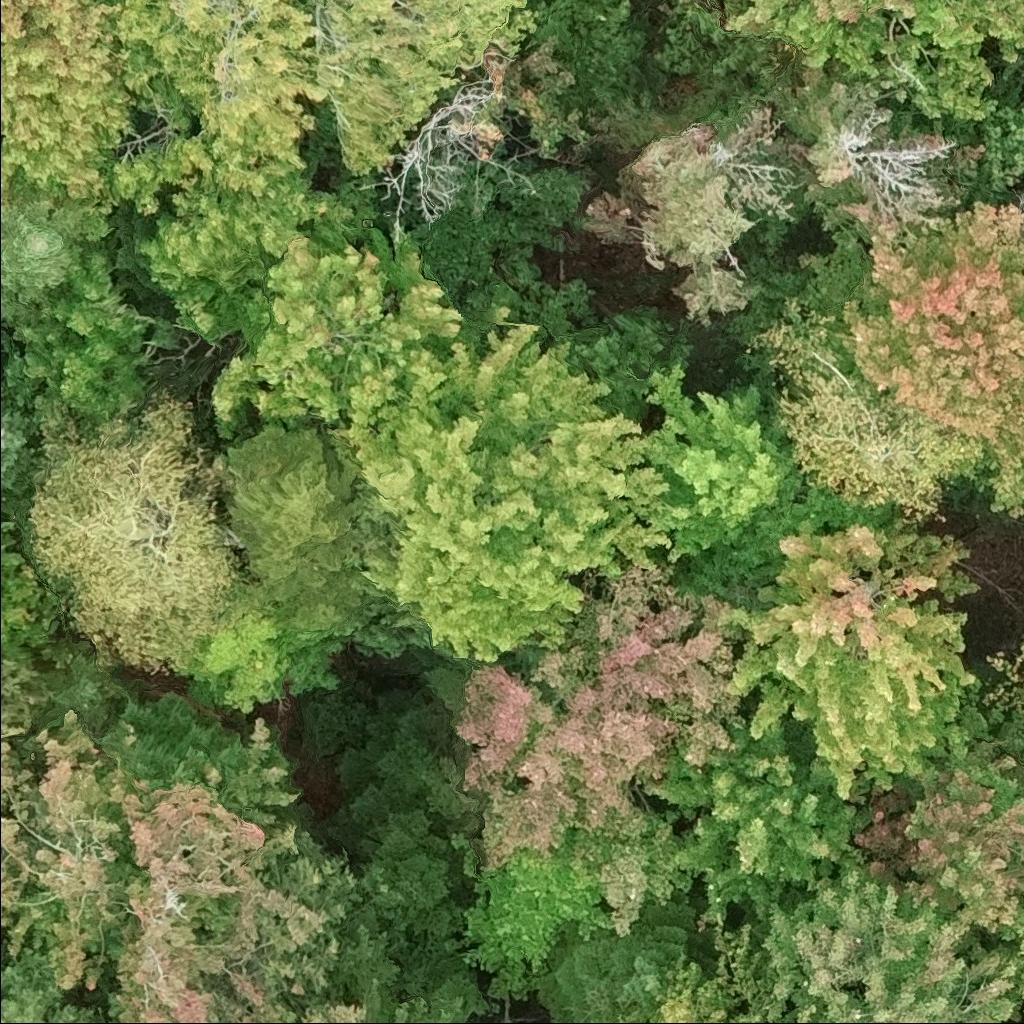crown: (323, 305, 677, 666), (451, 554, 745, 934), (0, 712, 329, 1023), (719, 517, 995, 799), (172, 183, 463, 437), (25, 389, 245, 674), (833, 201, 1023, 521), (745, 294, 993, 530), (636, 358, 880, 596), (636, 697, 870, 930), (107, 0, 349, 212), (580, 122, 794, 324), (757, 861, 1023, 1023), (854, 690, 1023, 941), (312, 0, 543, 177), (455, 271, 693, 432), (725, 0, 1023, 123), (769, 59, 958, 246), (0, 239, 186, 425), (220, 418, 385, 615), (133, 166, 344, 308), (0, 0, 132, 212), (464, 833, 615, 998), (526, 895, 713, 1023), (373, 69, 498, 240), (604, 902, 770, 1023), (0, 189, 94, 324), (0, 934, 123, 1023), (0, 522, 63, 666), (844, 116, 959, 194), (196, 611, 281, 712), (0, 379, 36, 562), (0, 658, 55, 731), (293, 997, 373, 1023), (791, 998, 818, 1023), (1016, 984, 1023, 1017), (1012, 934, 1023, 953)
